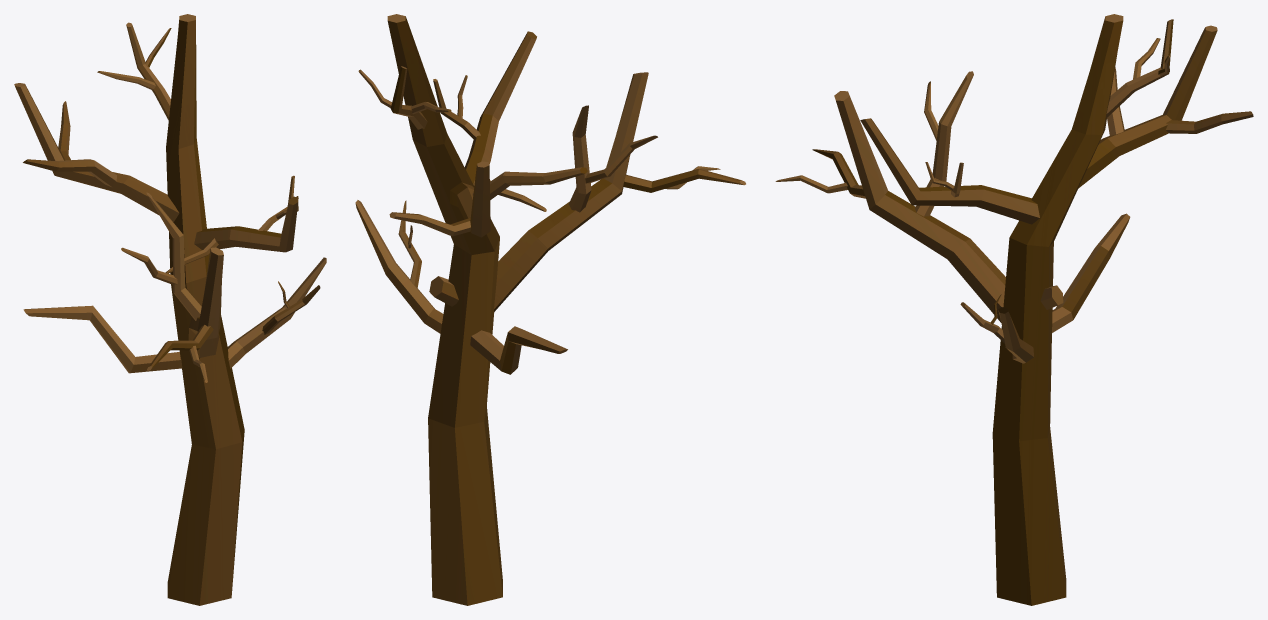
File: tree_noleaves.fbx
The picture shows the model from 3 angles, left to right: view 1: azimuth 30°, elevation 25°; view 2: azimuth 150°, elevation 25°; view 3: azimuth 270°, elevation 25°; orthographic projection. The views are drawn at different scales.
Parts seen in each view (by area): view 1: Base_1; view 2: Base_1; view 3: Base_1.
Boxes of the visible parts, x1,y1,x2,y2 form: Base_1: (14, 14, 326, 605); Base_1: (355, 14, 745, 605); Base_1: (775, 14, 1253, 605).
Size of the model in its own units: 1144 by 2218 by 1645.
